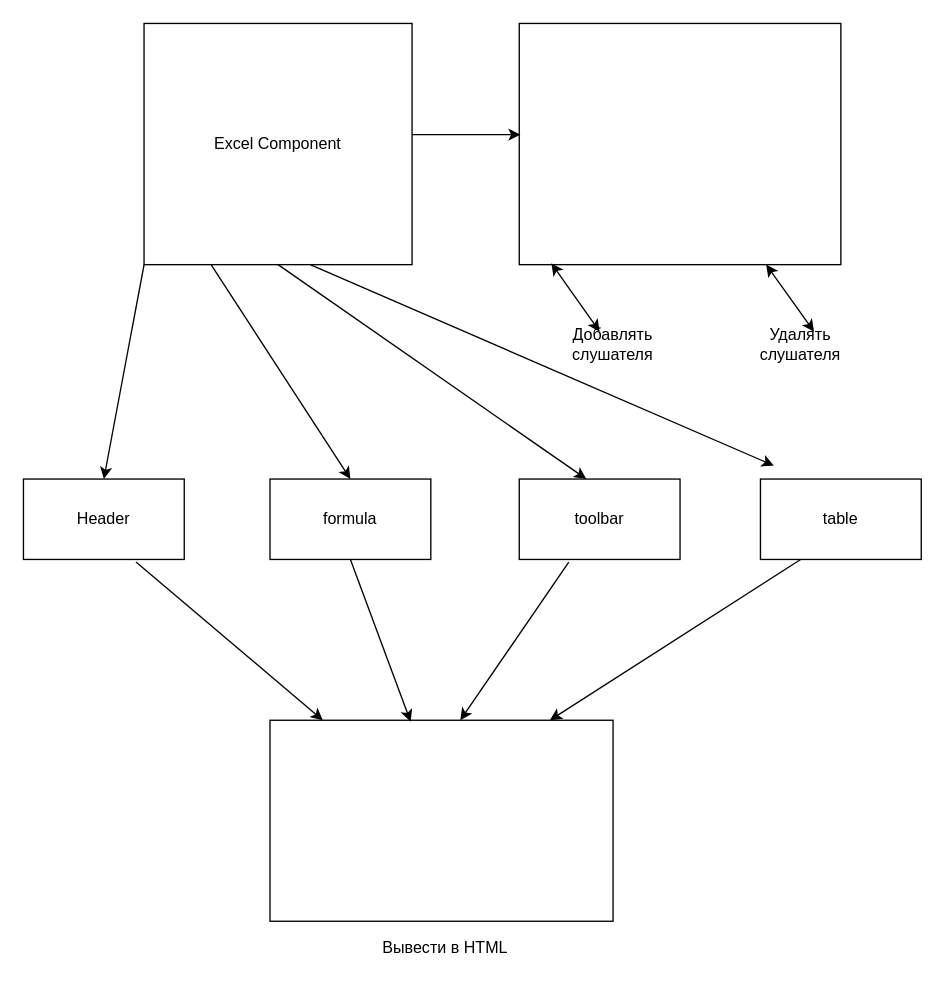
Image size: 945x985. Some labels were removed from this diagram. The shapes that lost their labels are listed below. From the top down, each one's centre as x and y in pixels, then its label:
(679,143): DOMListener
(441,820): Excel
